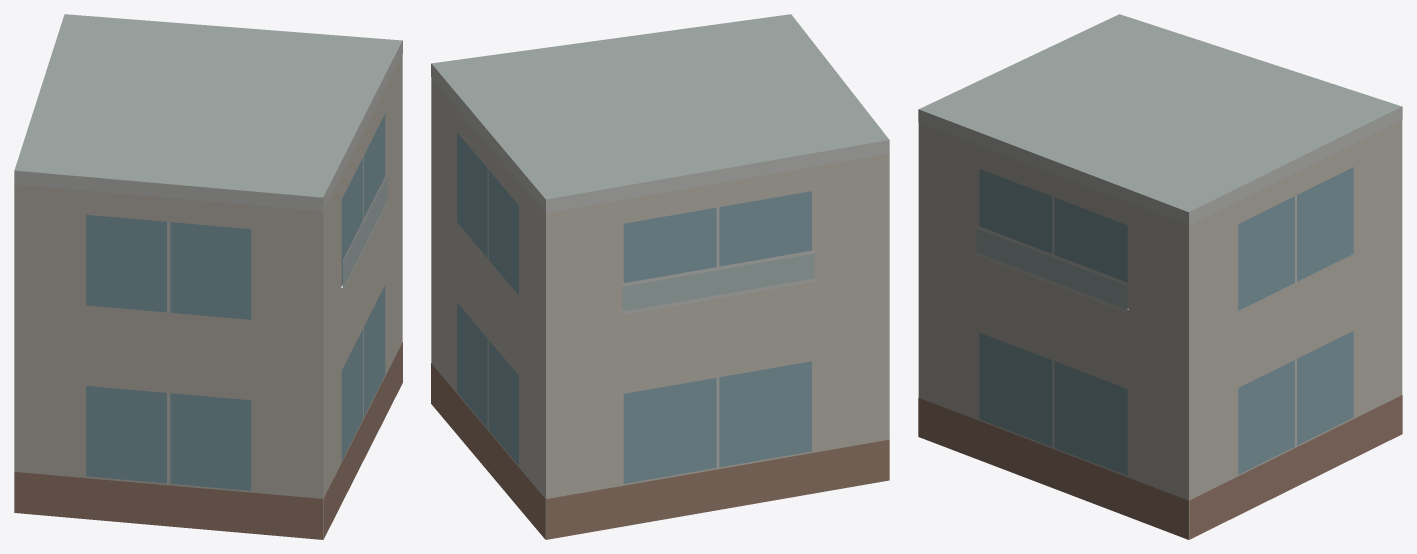
File: survey-upis-32818177.glb
3 renders of one model, left to right at view 1: azimuth 30°, elevation 25°; view 2: azimuth 150°, elevation 25°; view 3: azimuth 270°, elevation 25°, orthographic. The views are drawn at different scales.
Parts seen in each view (by area): view 1: survey-upis-32818177.tmp; view 2: survey-upis-32818177.tmp; view 3: survey-upis-32818177.tmp.
Boxes of the visible parts, x1,y1,x2,y2 form: survey-upis-32818177.tmp: (14, 14, 402, 539); survey-upis-32818177.tmp: (431, 14, 889, 539); survey-upis-32818177.tmp: (918, 14, 1402, 539).
Bounding box in the file's own units: 7.93 × 6.1 × 8.17.
